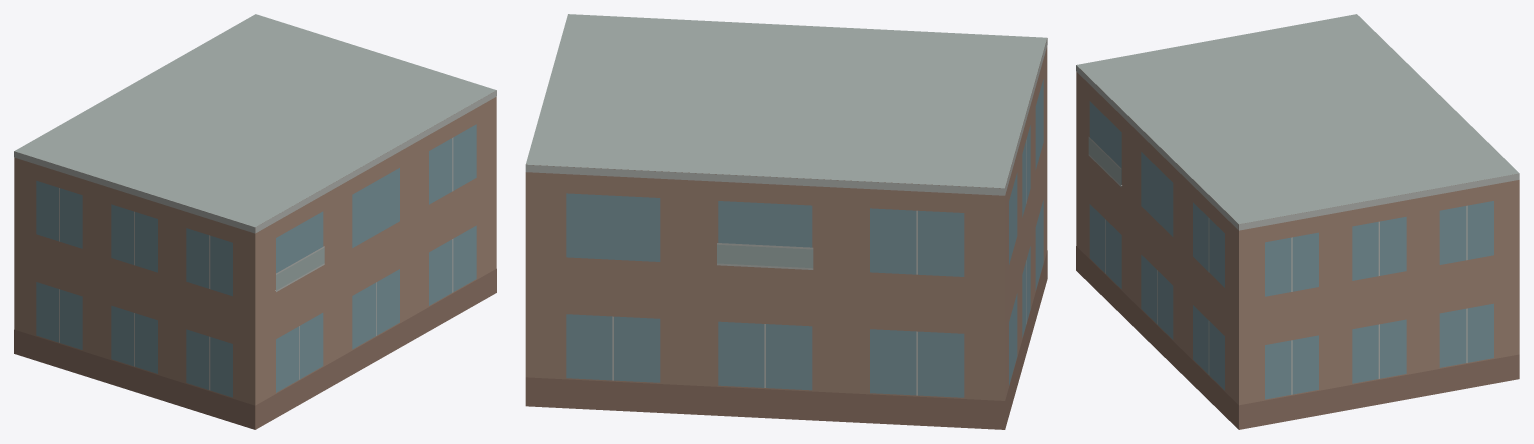
File: survey-upis-32839800.glb
3 renders of one model, left to right at view 1: azimuth 30°, elevation 25°; view 2: azimuth 150°, elevation 25°; view 3: azimuth 270°, elevation 25°, orthographic. The views are drawn at different scales.
Parts seen in each view (by area): view 1: survey-upis-32839800.tmp; view 2: survey-upis-32839800.tmp; view 3: survey-upis-32839800.tmp.
Boxes of the visible parts, x1,y1,x2,y2 form: survey-upis-32839800.tmp: [14, 14, 496, 429]; survey-upis-32839800.tmp: [525, 14, 1047, 429]; survey-upis-32839800.tmp: [1076, 14, 1519, 429].
Size of the model in its own units: 17.34 by 7.9 by 15.46.
